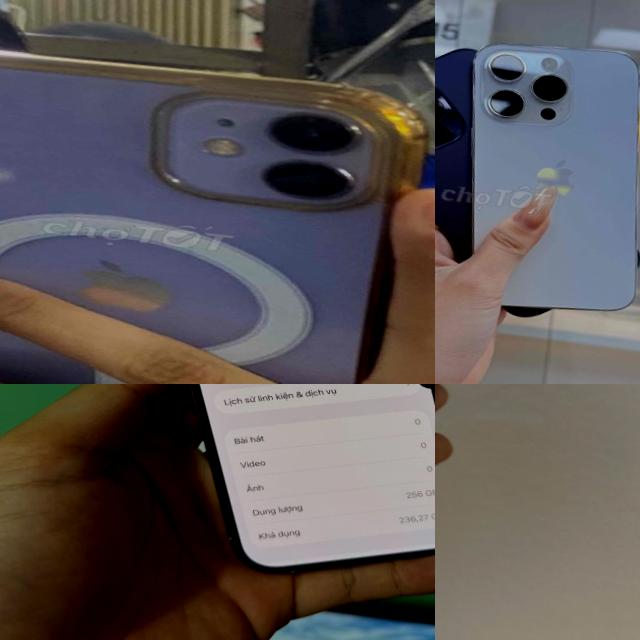screen_defect: (412, 384, 435, 395)
